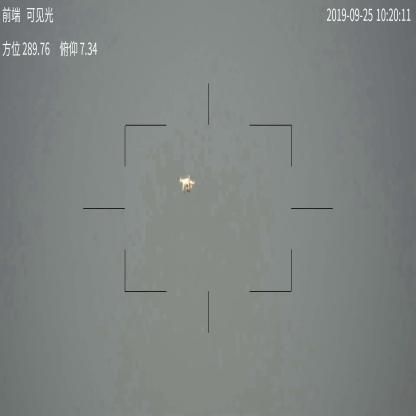uav: (177, 174, 197, 194)
